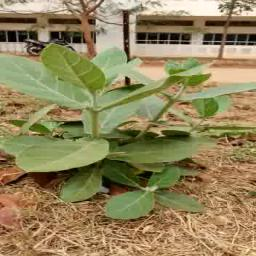CALOTROPIS: (4, 44, 222, 221)
